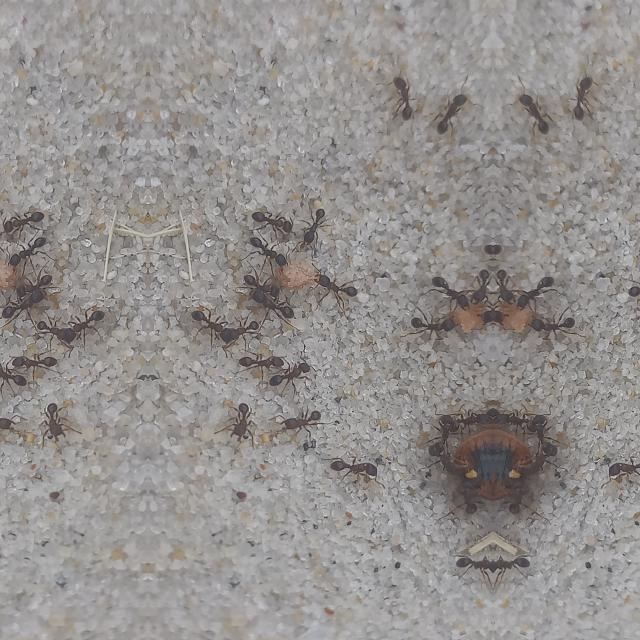Tetramorium: (389, 305, 461, 345), (523, 305, 595, 345), (428, 82, 468, 144), (516, 82, 556, 144), (274, 396, 334, 436), (246, 286, 302, 328), (304, 263, 374, 295), (526, 400, 568, 452), (417, 400, 458, 452), (0, 284, 48, 328), (262, 356, 324, 389), (240, 231, 292, 269), (218, 394, 256, 446), (2, 231, 54, 269), (38, 394, 76, 446), (236, 202, 298, 232), (299, 206, 333, 254), (0, 202, 58, 230), (220, 314, 266, 348), (28, 314, 74, 348), (328, 450, 376, 482), (462, 256, 488, 314), (496, 256, 522, 314), (186, 303, 224, 339), (433, 270, 469, 308), (70, 303, 108, 339), (515, 270, 551, 308), (238, 270, 286, 298), (8, 270, 56, 298), (566, 70, 588, 128), (397, 70, 418, 128), (454, 482, 476, 534), (508, 482, 530, 534), (453, 402, 491, 432), (493, 402, 531, 432), (451, 557, 491, 585), (493, 557, 533, 585), (608, 448, 640, 482), (232, 349, 286, 368), (8, 349, 62, 368), (608, 263, 640, 295), (0, 356, 32, 388), (0, 396, 20, 436)
